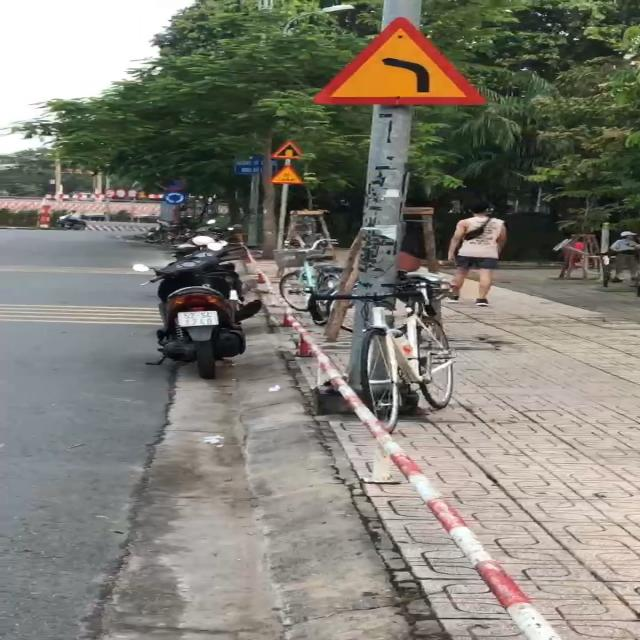Bien bao cho ngoat nguy hiem: (300, 7, 502, 108)
